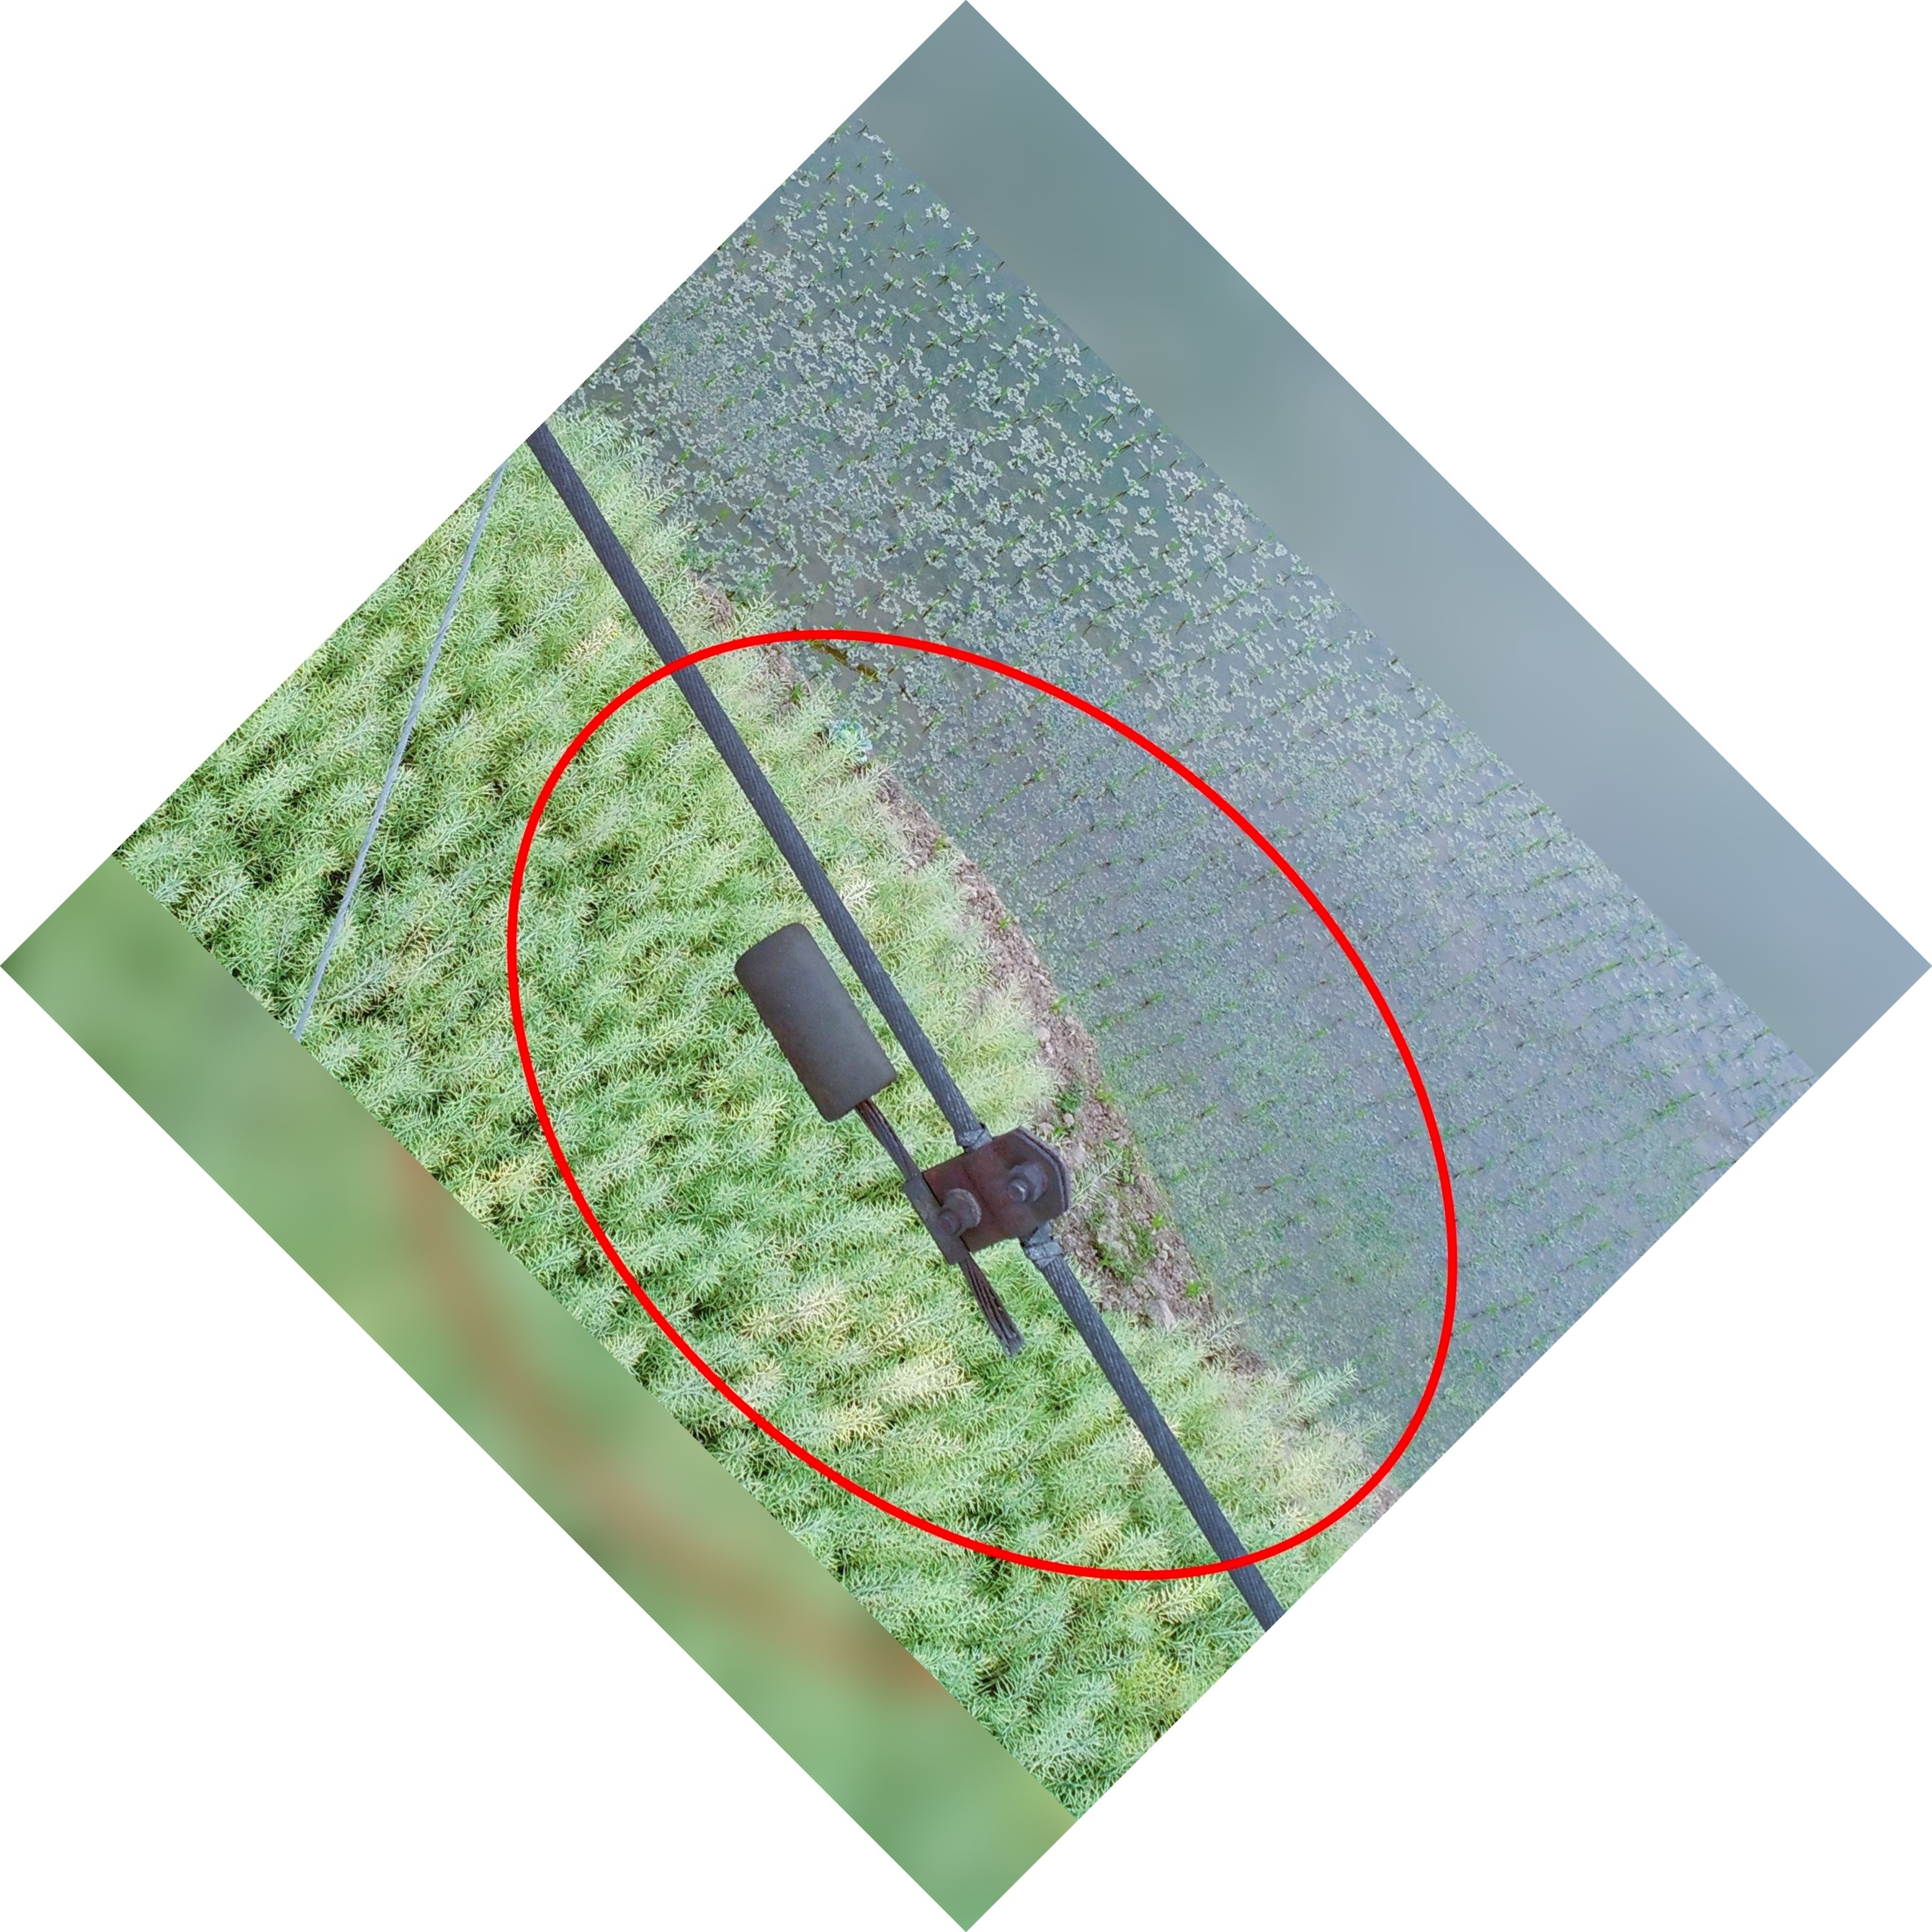Damage of shockproof hammer: (722, 886, 1111, 1385)
